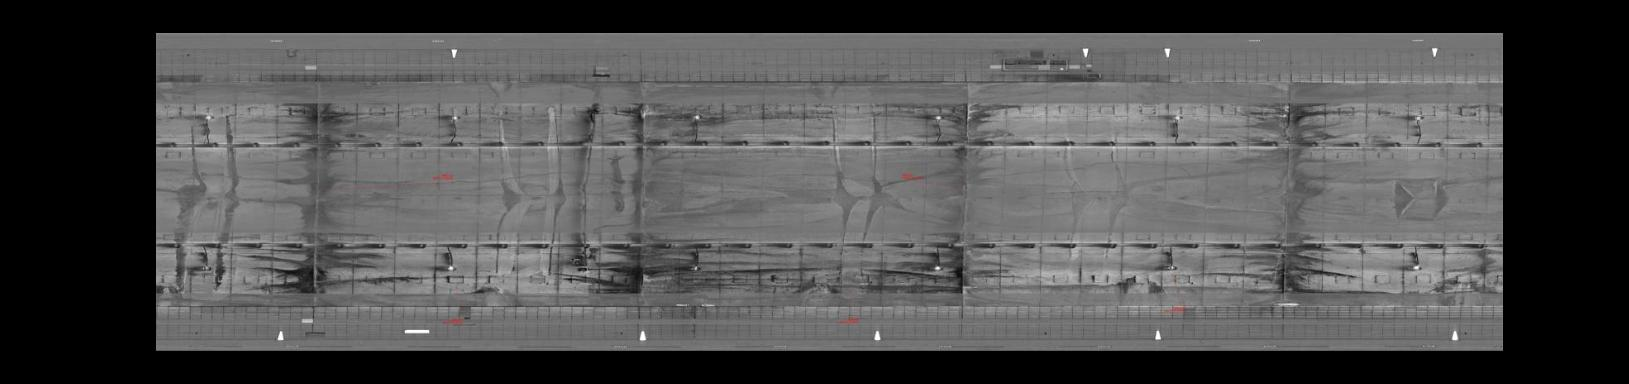light: (444, 112, 466, 124), (1408, 262, 1426, 275), (1409, 110, 1428, 121), (1161, 262, 1180, 273), (928, 112, 949, 121), (442, 262, 458, 273), (201, 111, 217, 122), (1166, 112, 1184, 121), (930, 263, 946, 273), (198, 262, 213, 273), (687, 264, 705, 272), (689, 113, 705, 122)
